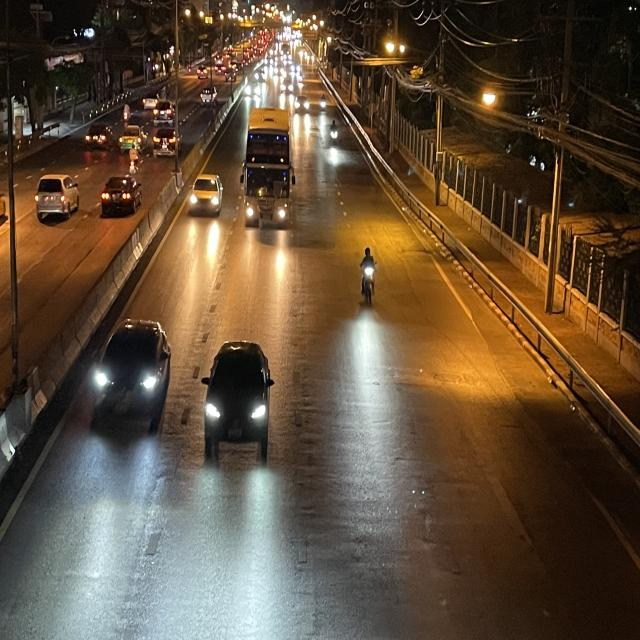bike: (359, 244, 377, 305)
bus: (241, 107, 296, 230)
car: (89, 315, 173, 424), (200, 340, 275, 456), (188, 171, 225, 216)
